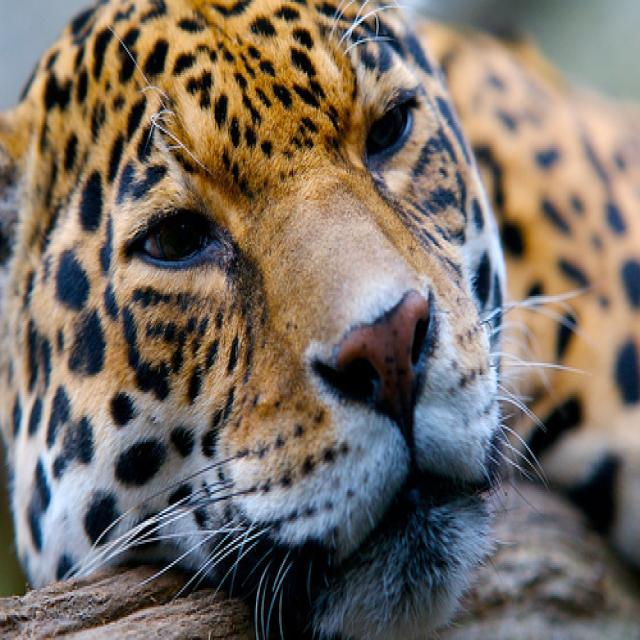Leopard: (0, 6, 635, 636)
